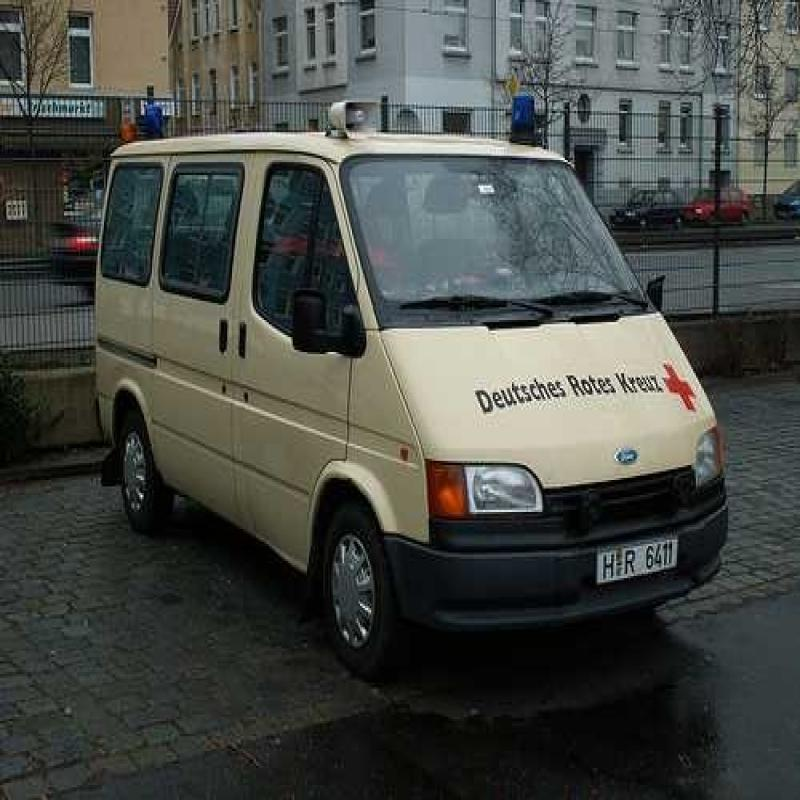AmbulanceSiren: (497, 84, 560, 162), (123, 86, 175, 147)
